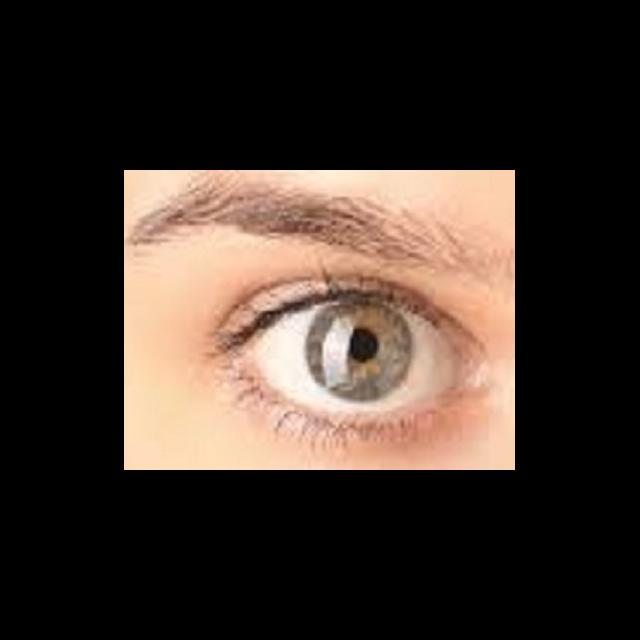eye: (249, 298, 457, 414)
iris: (305, 302, 414, 402)
